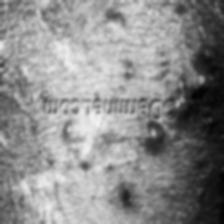Non-Cancerous Skin Condition: (55, 119, 95, 176), (179, 57, 217, 106), (96, 10, 132, 42), (144, 120, 170, 154), (0, 48, 13, 94), (197, 0, 224, 21)
